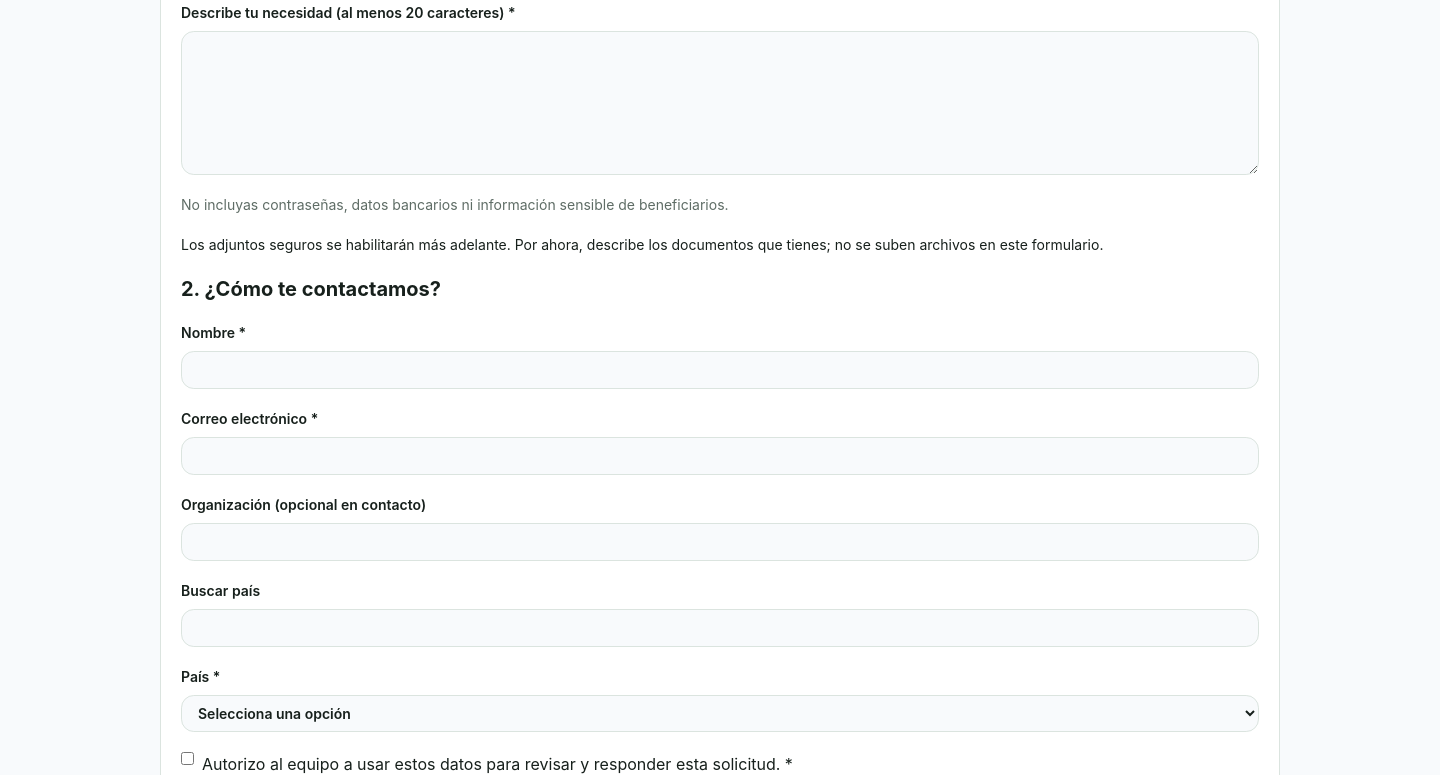
Scenario: captures optional-field contact with consent and keeps its id on retry
The image size is (1440, 775).
(page scrolled)
Type "Ana" into the field labelled "Nombre *" at coordinates (720, 370), box [181, 351, 1259, 389]
Type "ana@example.invalid" into the field labelled "Correo electrónico *" at coordinates (720, 456), box [181, 437, 1259, 475]
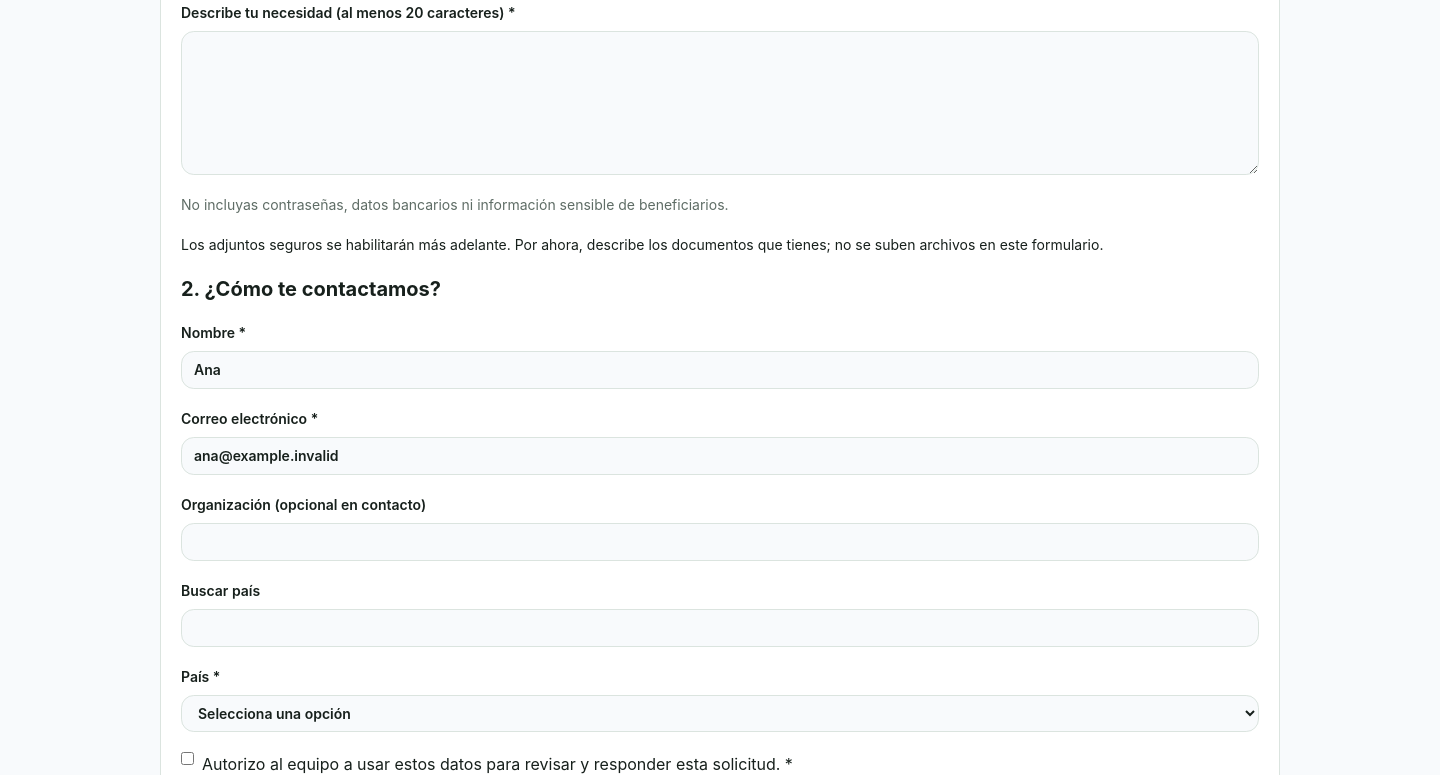
Type "Necesitamos traducción de nuestra propuesta." into the text box labelled "Describe tu necesidad (al menos 20 caracteres) *" at coordinates (720, 103), box [181, 31, 1259, 175]
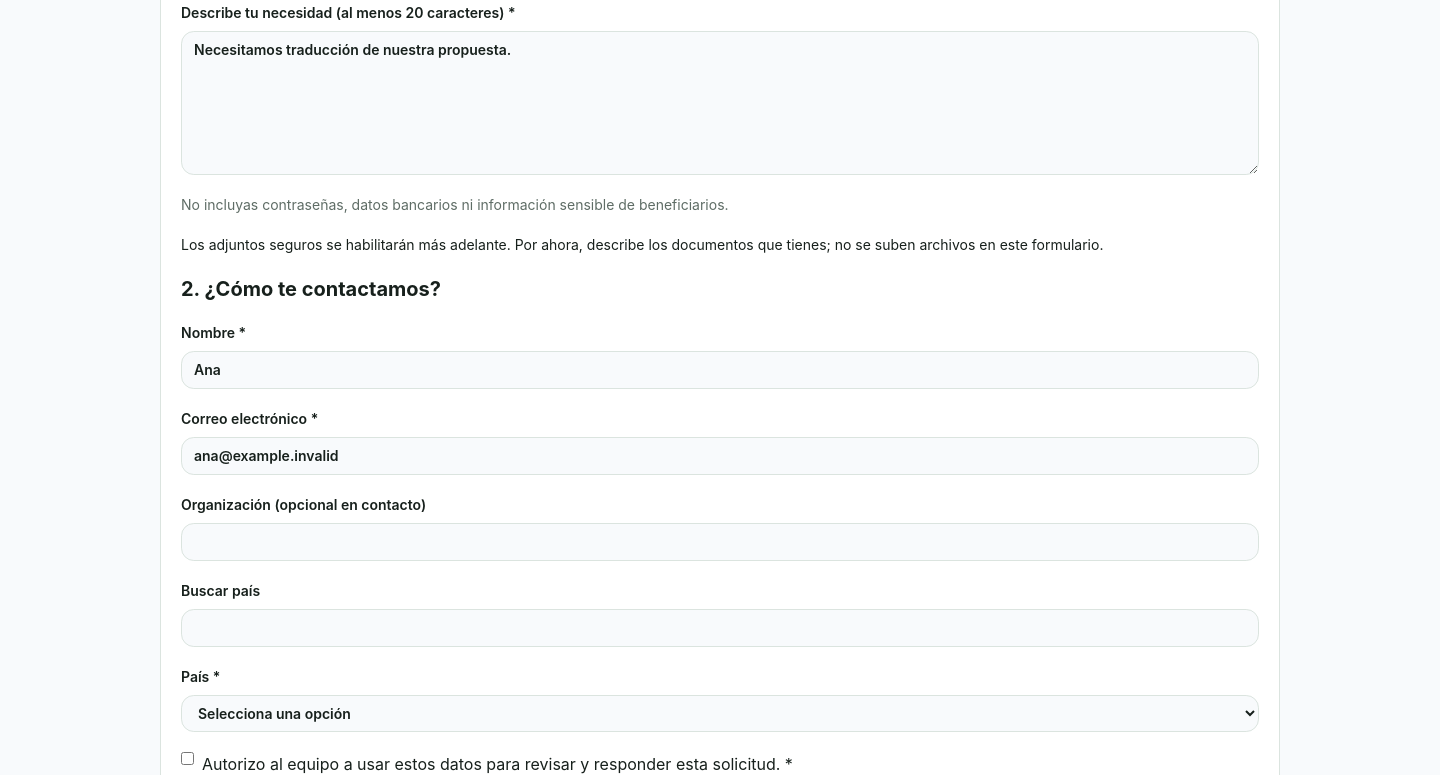
Select "Chile" in the dropdown labelled "País *" at coordinates (720, 714), box [181, 695, 1259, 732]
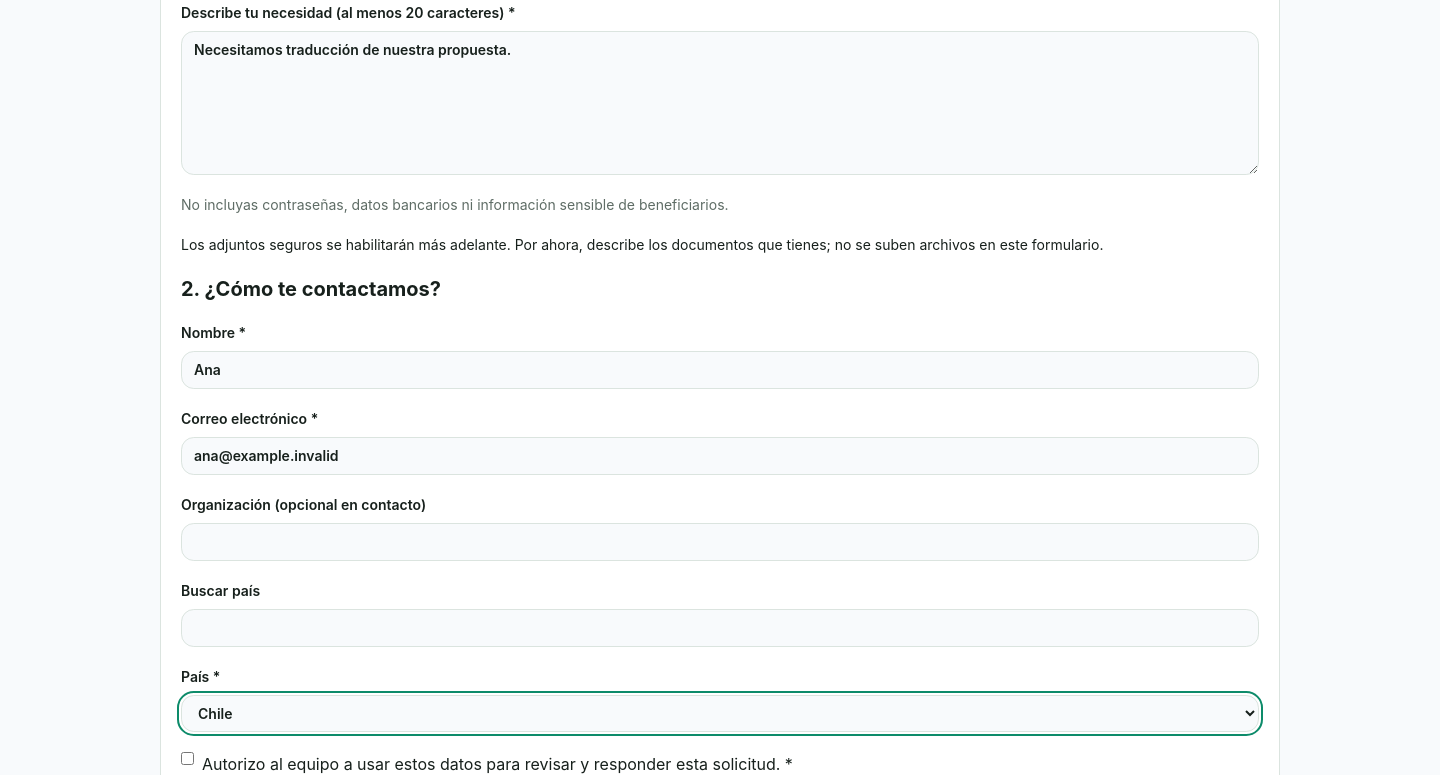
Click the checkbox at coordinates (188, 758), box [181, 752, 194, 765]
(page scrolled)
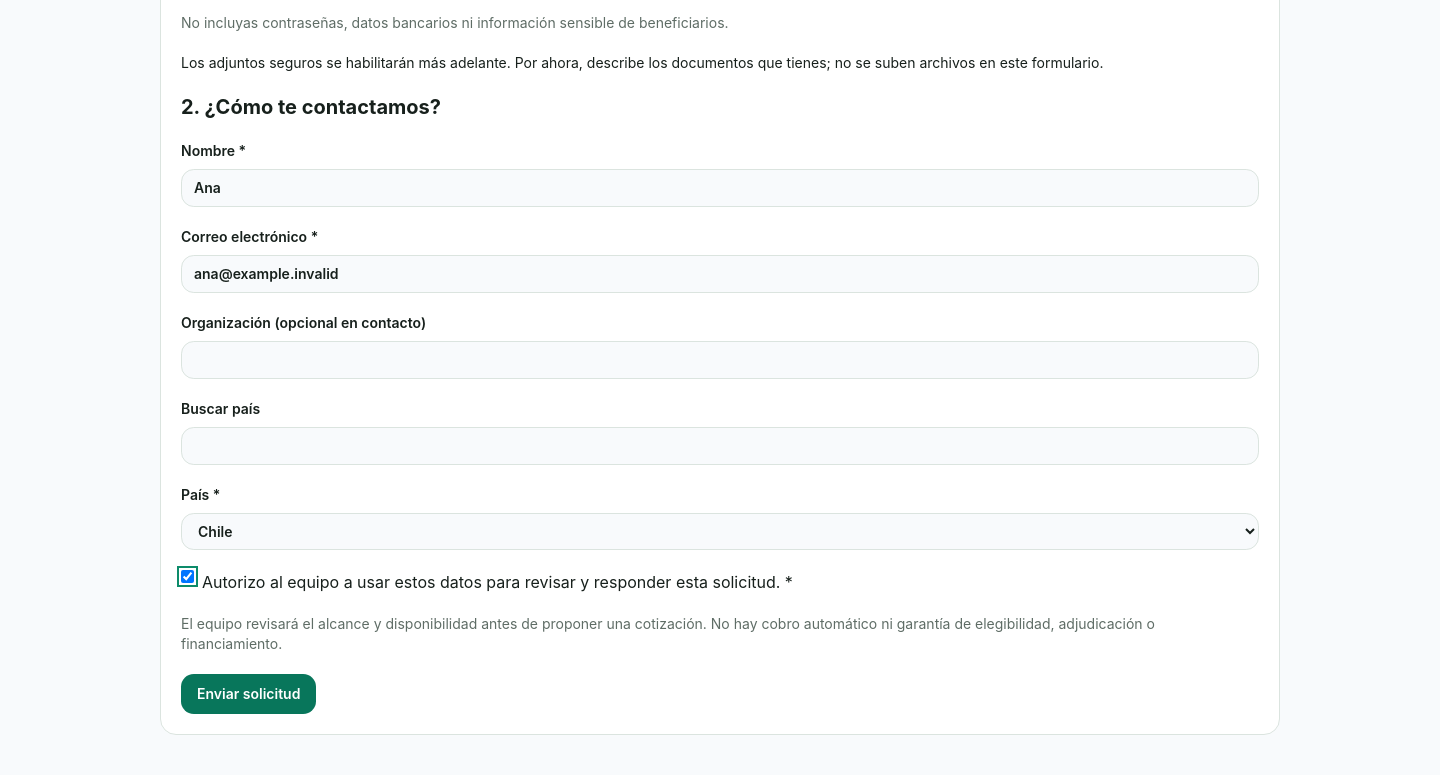
Click the button "Enviar solicitud" at coordinates (249, 694), box [181, 674, 316, 714]
(page scrolled)
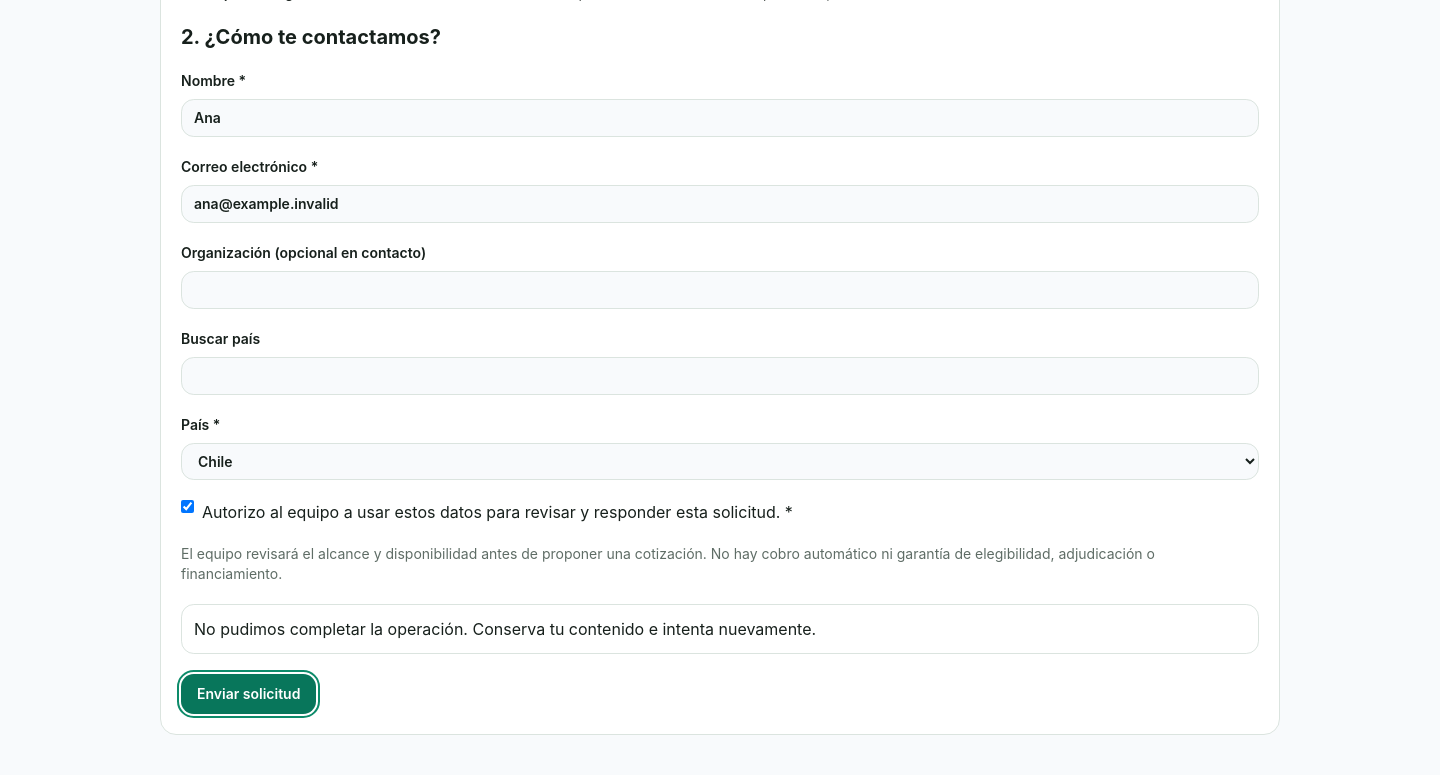
expect the message does not show "private failure": met, box [181, 604, 1259, 654]
Click the button "Enviar solicitud" at coordinates (249, 694), box [181, 674, 316, 714]
(page scrolled)
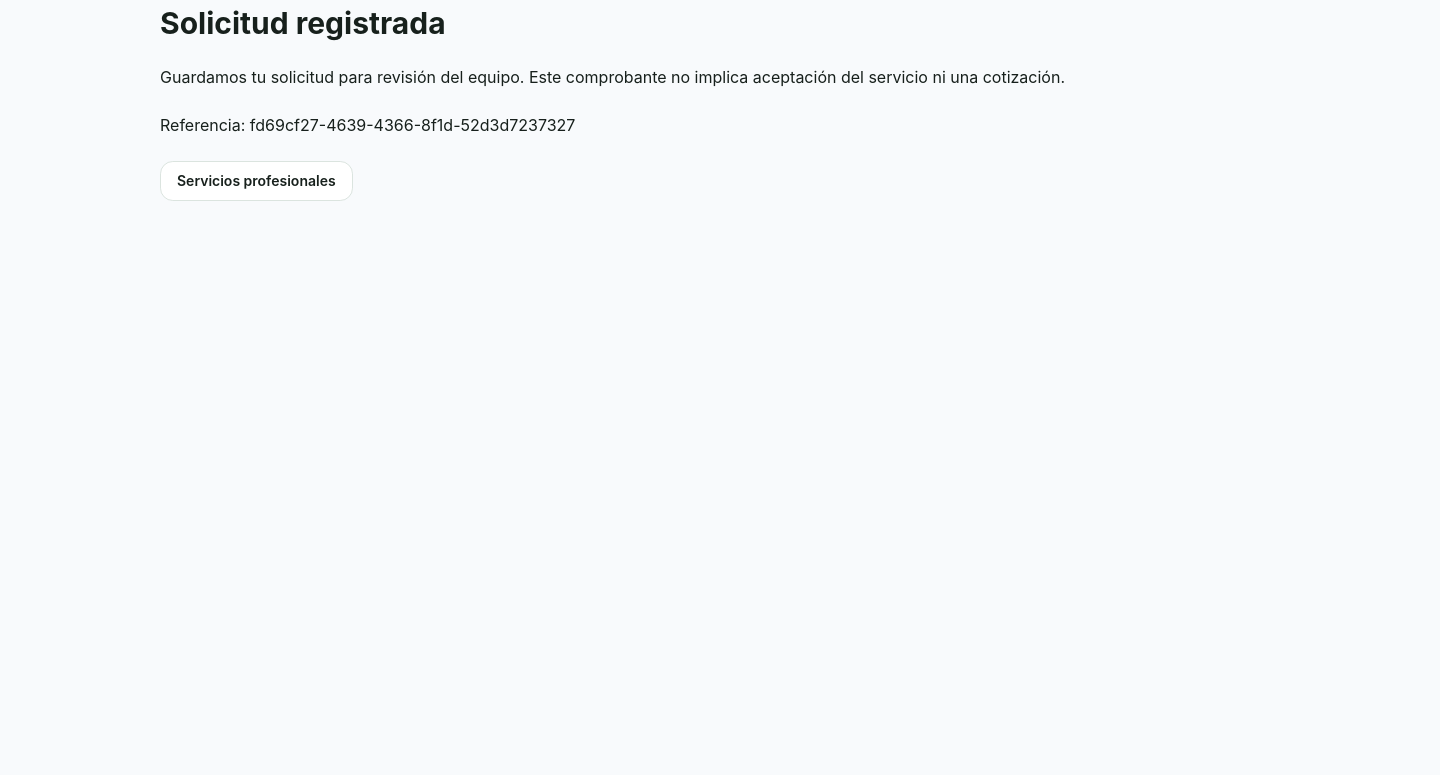
expect the heading "Solicitud registrada" is shown: met, box [160, 5, 446, 41]
